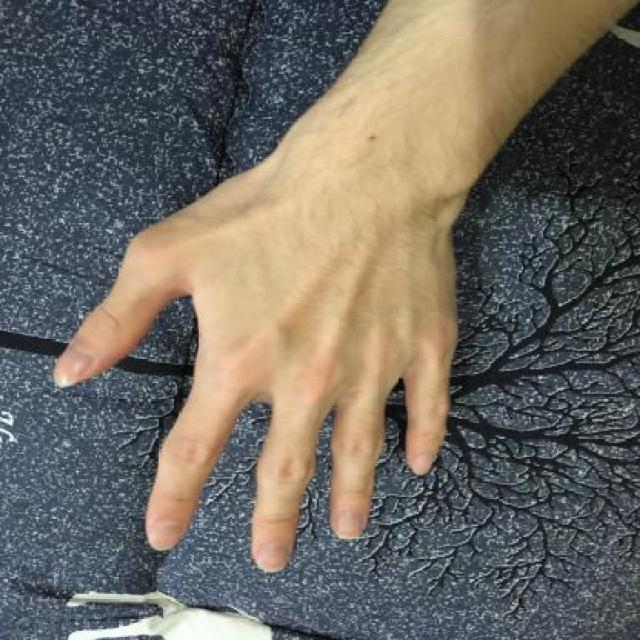bare_hand: (36, 128, 472, 601)
